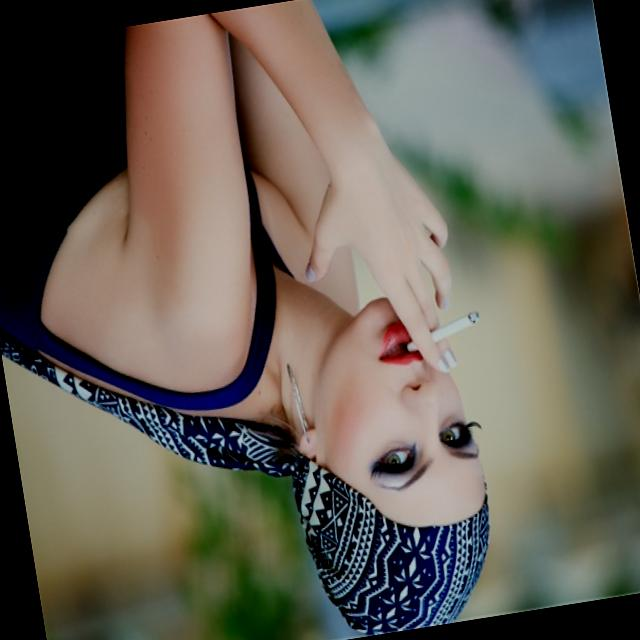smoke: (396, 303, 484, 356)
